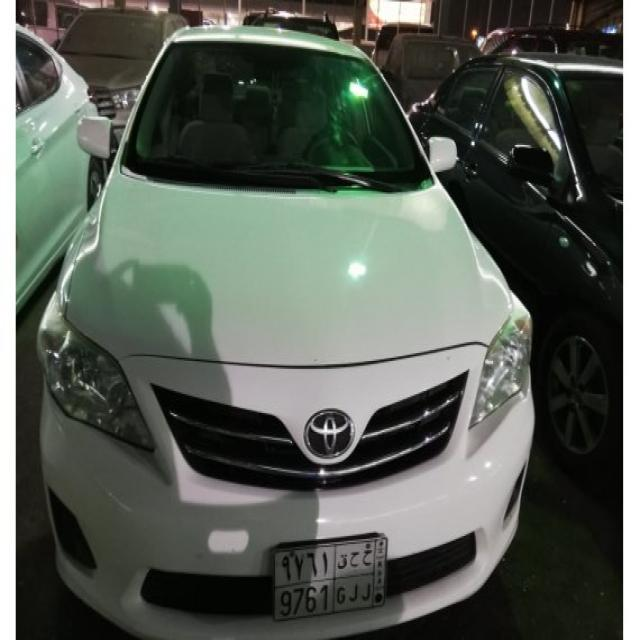license_plate: (270, 533, 390, 624)
